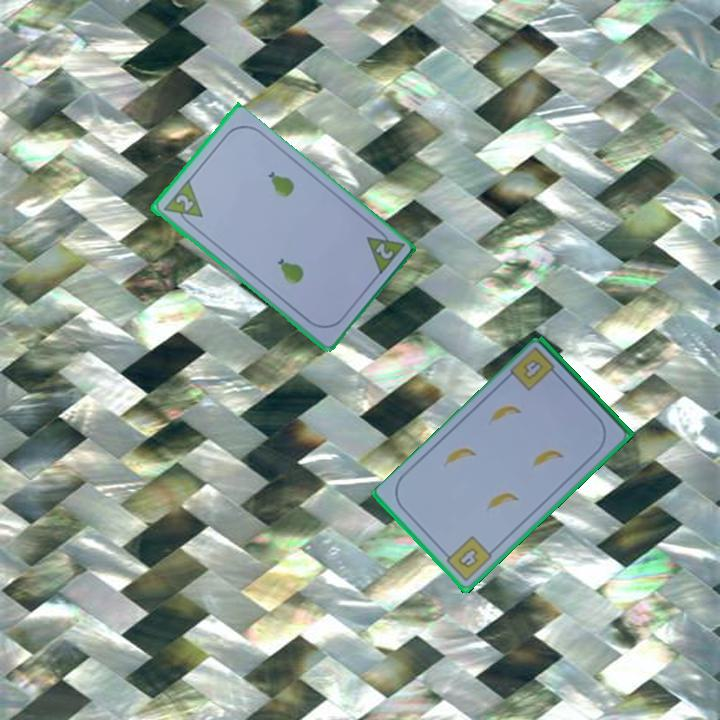2p: (171, 191, 196, 214), (371, 239, 396, 262)
4b: (439, 532, 495, 584), (519, 356, 546, 383)
